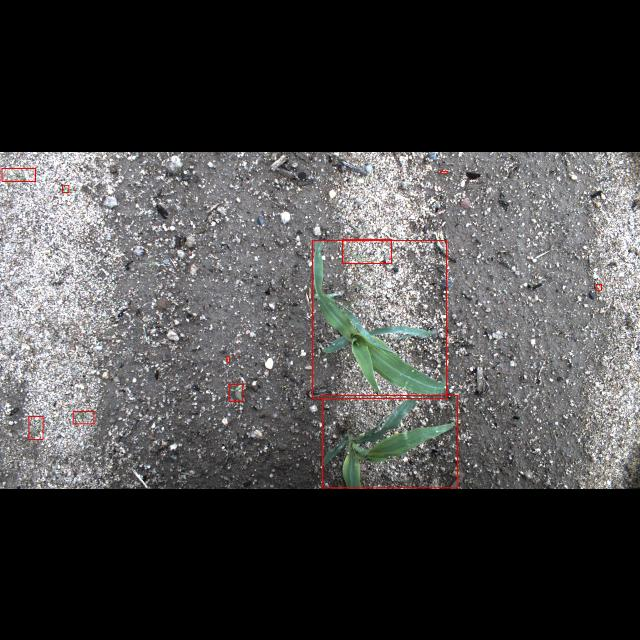crop: (312, 240, 446, 398), (322, 394, 458, 488)
weed: (342, 239, 392, 263), (2, 168, 34, 180), (29, 416, 43, 439), (73, 411, 94, 423), (229, 384, 243, 401), (62, 184, 70, 192), (596, 283, 602, 289), (227, 356, 230, 362), (440, 170, 448, 172)
